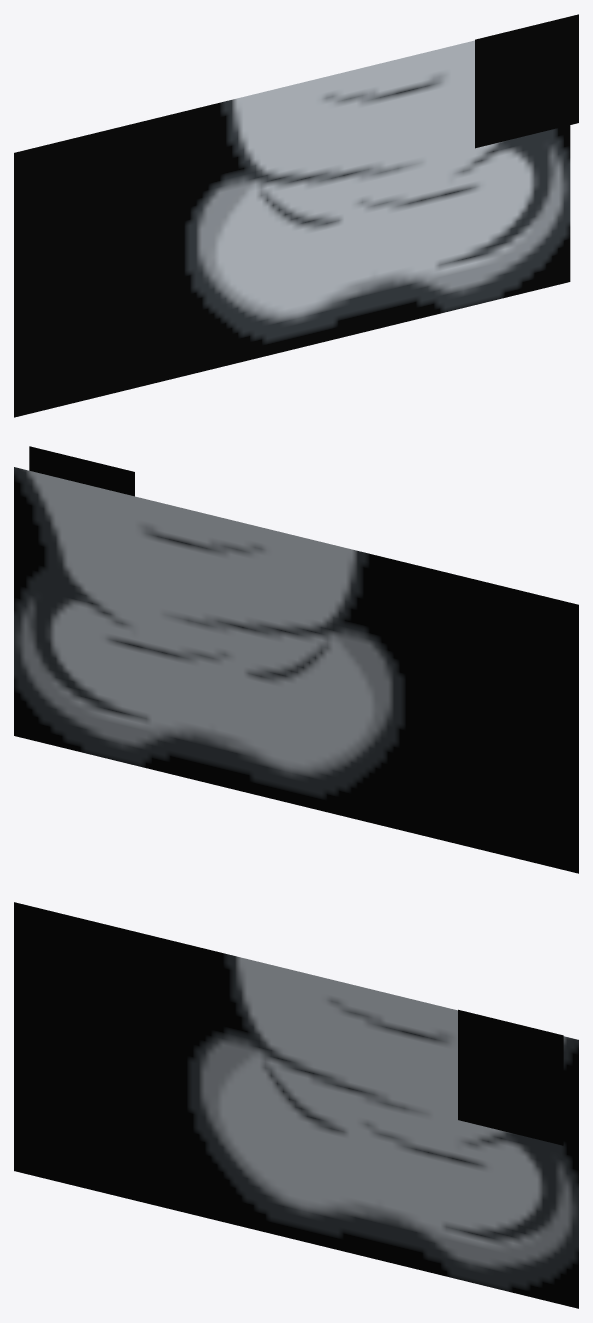
The model's file is bubble3.glb.
3 renders of one model, top to bottom at view 1: azimuth 30°, elevation 25°; view 2: azimuth 150°, elevation 25°; view 3: azimuth 330°, elevation 25°, orthographic.
Parts seen in each view (by area): view 1: bubble3, bubbles_btn3; view 2: bubble3, bubbles_btn3; view 3: bubble3, bubbles_btn3.
Boxes of the visible parts, left/top/right/bottom form: bubble3: left=14, top=40, right=570, bottom=417; bubbles_btn3: left=475, top=14, right=578, bottom=148; bubble3: left=14, top=467, right=578, bottom=873; bubbles_btn3: left=29, top=446, right=134, bottom=496; bubble3: left=14, top=902, right=578, bottom=1308; bubbles_btn3: left=458, top=1009, right=563, bottom=1145.
Bounding box in the file's own units: 374 × 178 × 13.95.
1 material, 1 textured.
